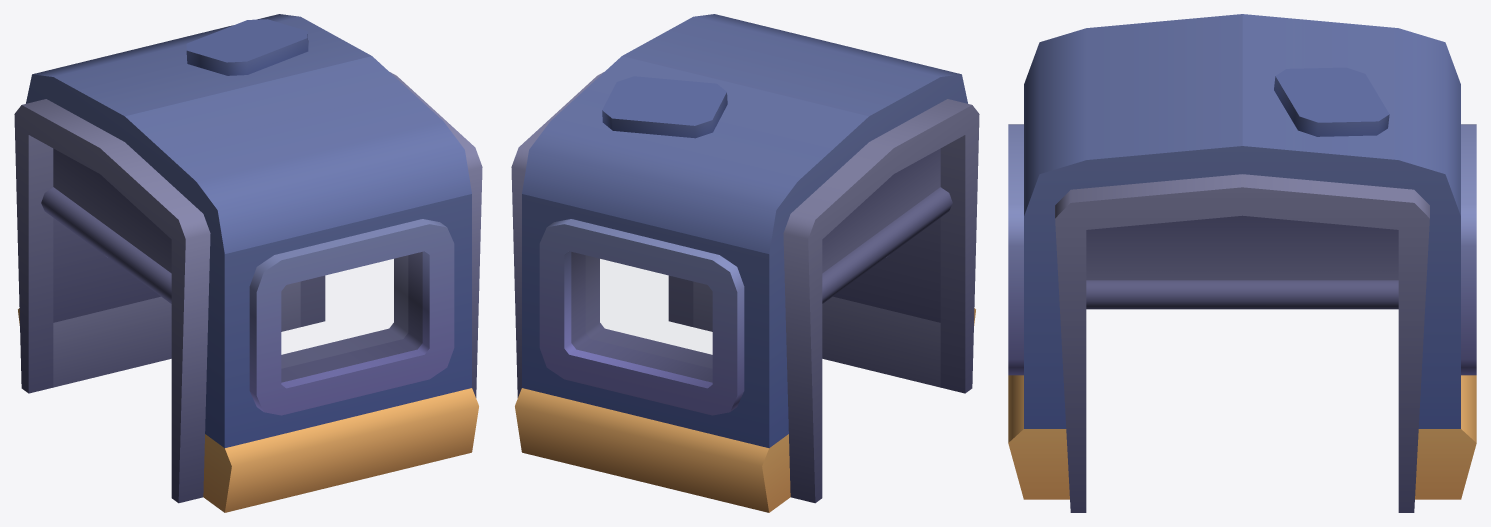
The model's file is kenney-factory-machine-window.glb.
3 views of the same model, side by side, from view 1: azimuth 30°, elevation 25°; view 2: azimuth 150°, elevation 25°; view 3: azimuth 270°, elevation 25° (orthographic). The views are drawn at different scales.
Visible parts, largest first — view 1: machine-window; view 2: machine-window; view 3: machine-window.
Part boxes in pixels (x1,y1,x2,y2): machine-window: (14,14,482,512); machine-window: (511,14,979,512); machine-window: (1008,14,1476,512).
Bounding box in the file's own units: 1.8 × 1.93 × 2.25.
Materials: 2 (1 with a texture image).
